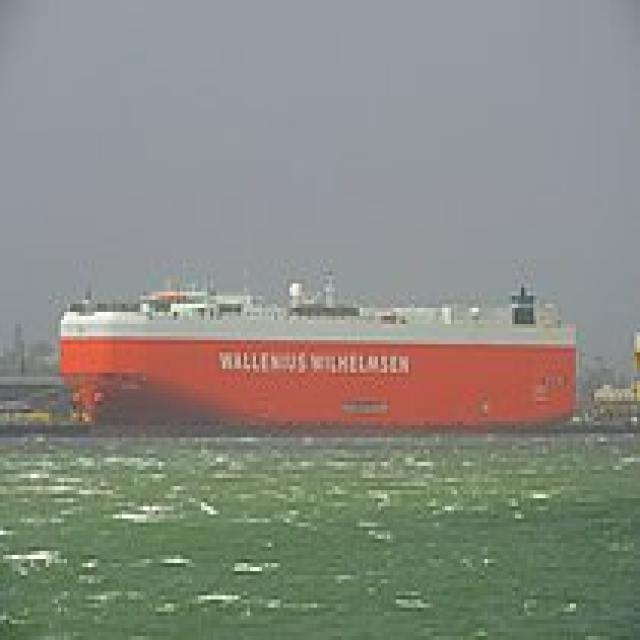Carrier: (52, 255, 576, 438)
